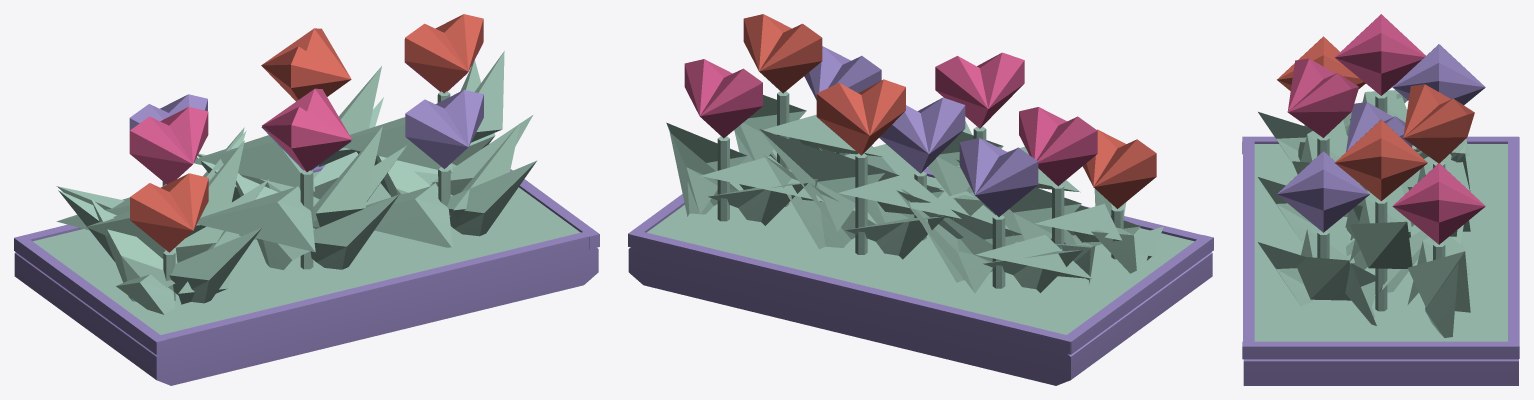
File: heart-bed.glb
3 renders of one model, left to right at view 1: azimuth 30°, elevation 25°; view 2: azimuth 150°, elevation 25°; view 3: azimuth 270°, elevation 25°, orthographic. The views are drawn at different scales.
Visible parts, largest first — view 1: root_mesh, pulse1_mesh, pulse0_mesh; view 2: root_mesh, pulse0_mesh, pulse1_mesh; view 3: root_mesh, pulse1_mesh, pulse0_mesh.
Part boxes in pixels (x1,y1,x2,y2): root_mesh: (14,51,599,385); pulse1_mesh: (129,14,483,184); pulse0_mesh: (129,39,483,252); root_mesh: (628,91,1213,385); pulse0_mesh: (684,46,1156,216); pulse1_mesh: (743,14,1097,186); root_mesh: (1242,90,1519,385); pulse1_mesh: (1287,14,1474,201); pulse0_mesh: (1277,36,1485,244).
Size of the model in its own units: 1.8 by 0.9 by 1.01.
